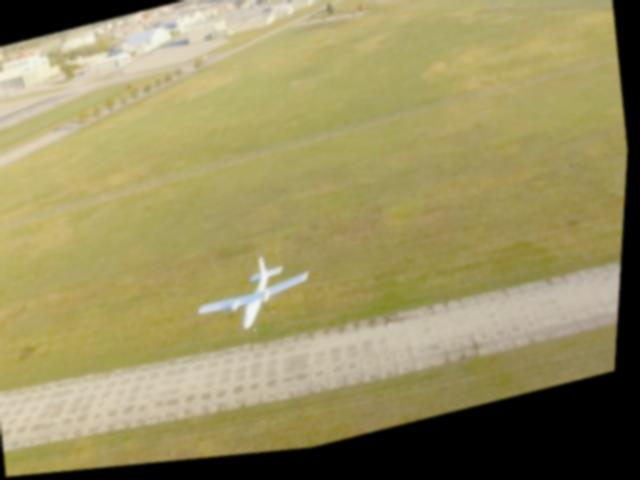uav: (194, 251, 321, 346)
